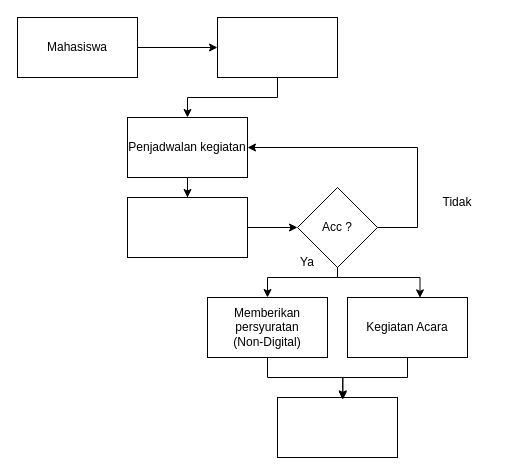
Image size: 505x475. Some labels were removed from this diagram. The shapes that lost their labels are listed below. From the top down, each one's box as (x1, y1, x2, y2) in pixels, then its label:
(216, 16, 338, 78): Aplikasi
(126, 196, 248, 258): Persyuratan Proposal & RAB (Digital)
(276, 396, 398, 458): Laporan Akhir & Dokumen Kegiatan
